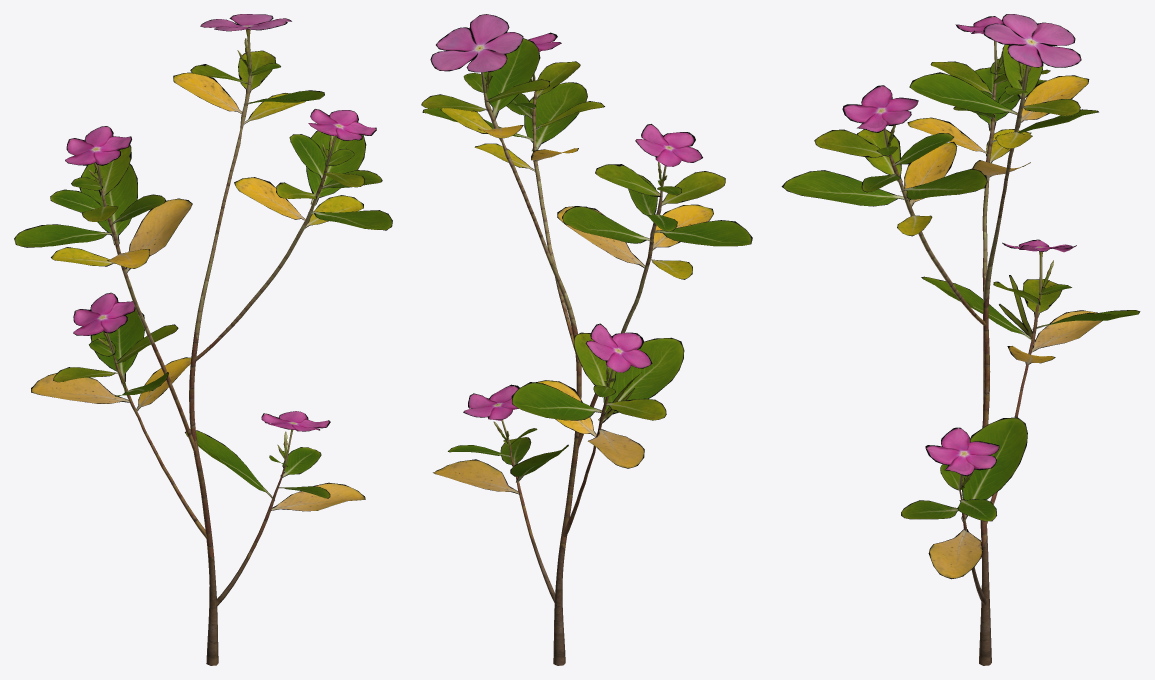
File: periwinkle_plant_04.glb
3 views of the same model, side by side, from view 1: azimuth 30°, elevation 25°; view 2: azimuth 150°, elevation 25°; view 3: azimuth 270°, elevation 25° (orthographic). The views are drawn at different scales.
Visible parts, largest first — view 1: periwinkle_plant; view 2: periwinkle_plant; view 3: periwinkle_plant.
Boxes of the visible parts, x1=… form: periwinkle_plant: x1=14, y1=14, x2=392, y2=665; periwinkle_plant: x1=421, y1=14, x2=752, y2=665; periwinkle_plant: x1=781, y1=14, x2=1140, y2=665.
Size of the model in its own units: 0.1675 by 0.3002 by 0.1466.
Materials: 1 (1 with a texture image).
